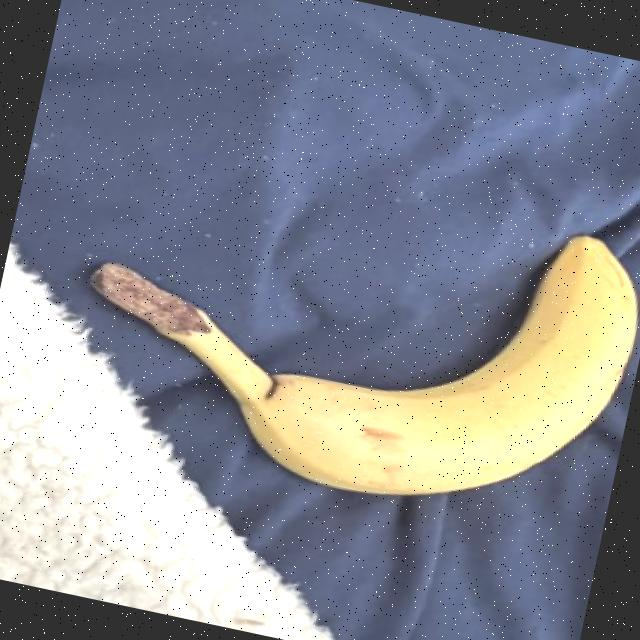Ripe: (23, 89, 640, 565)
